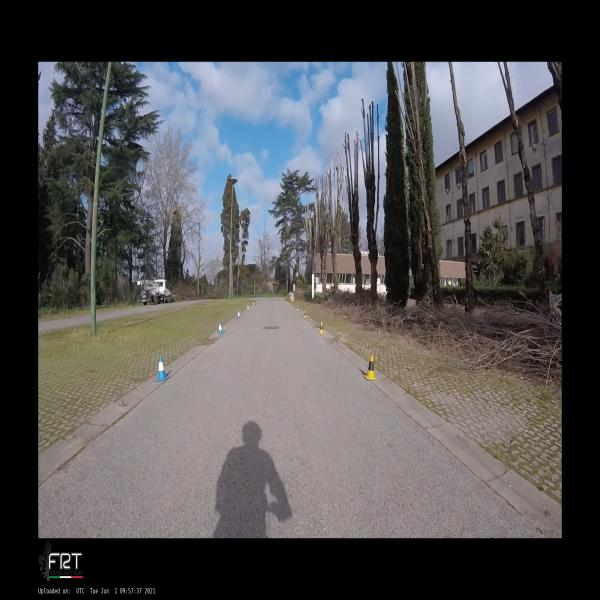blue_cone: (155, 355, 169, 381), (218, 321, 224, 334)
yellow_cone: (364, 354, 378, 381), (318, 321, 324, 334)
